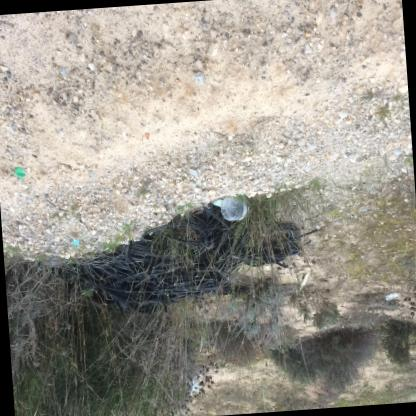Plastic: (220, 195, 249, 220), (13, 166, 25, 177), (71, 239, 79, 244)
Waste: (212, 198, 221, 207)
